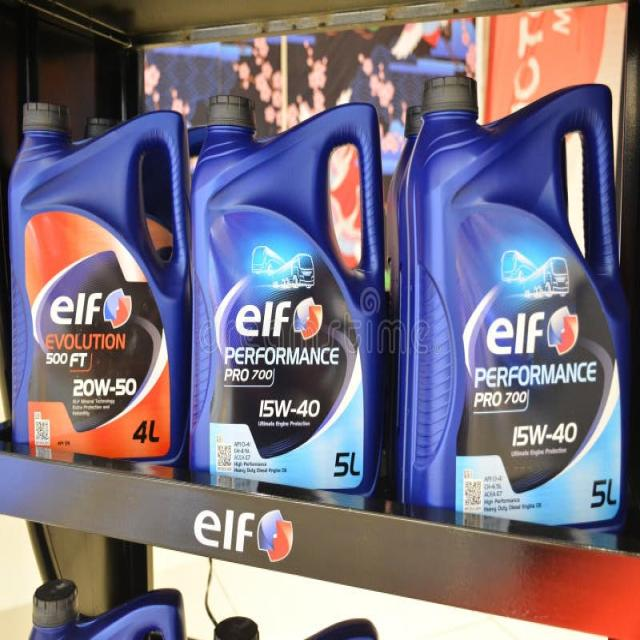motor_oil: (415, 70, 635, 524), (196, 94, 384, 496), (0, 96, 192, 459)
